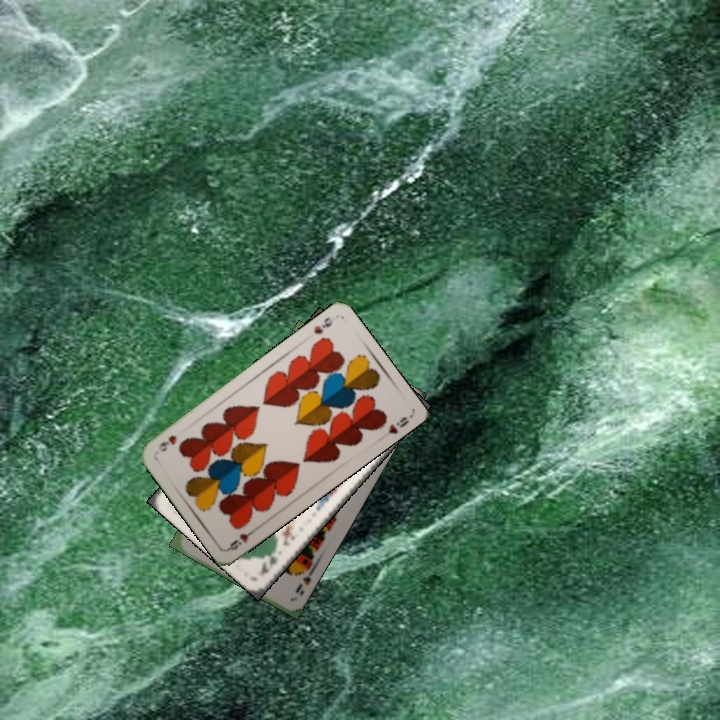GK: (256, 543, 281, 578)
H9: (225, 523, 260, 553), (309, 313, 335, 337)
S9: (291, 562, 318, 596)
